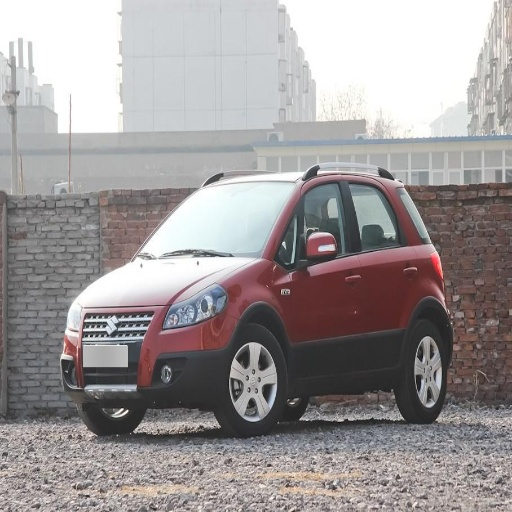back_left_door: (347, 176, 424, 367)
front_bumper: (60, 301, 236, 406)
front_glass: (138, 183, 293, 258)
front_left_door: (275, 176, 366, 375)
